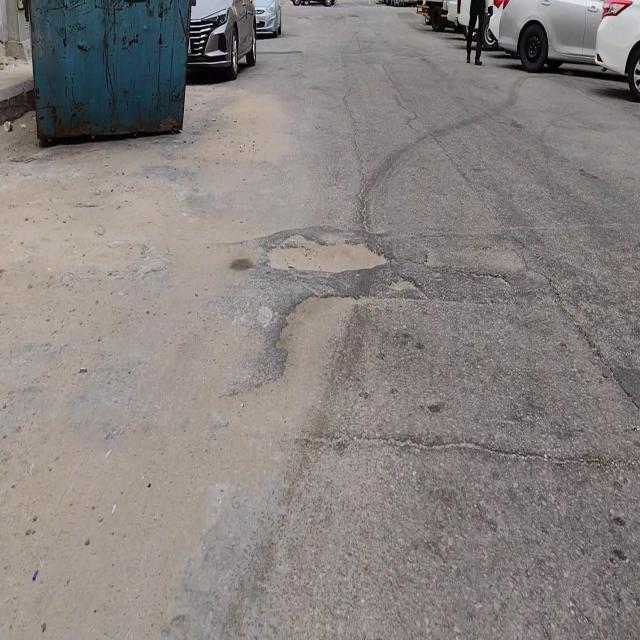Pothole: (266, 233, 386, 276)
